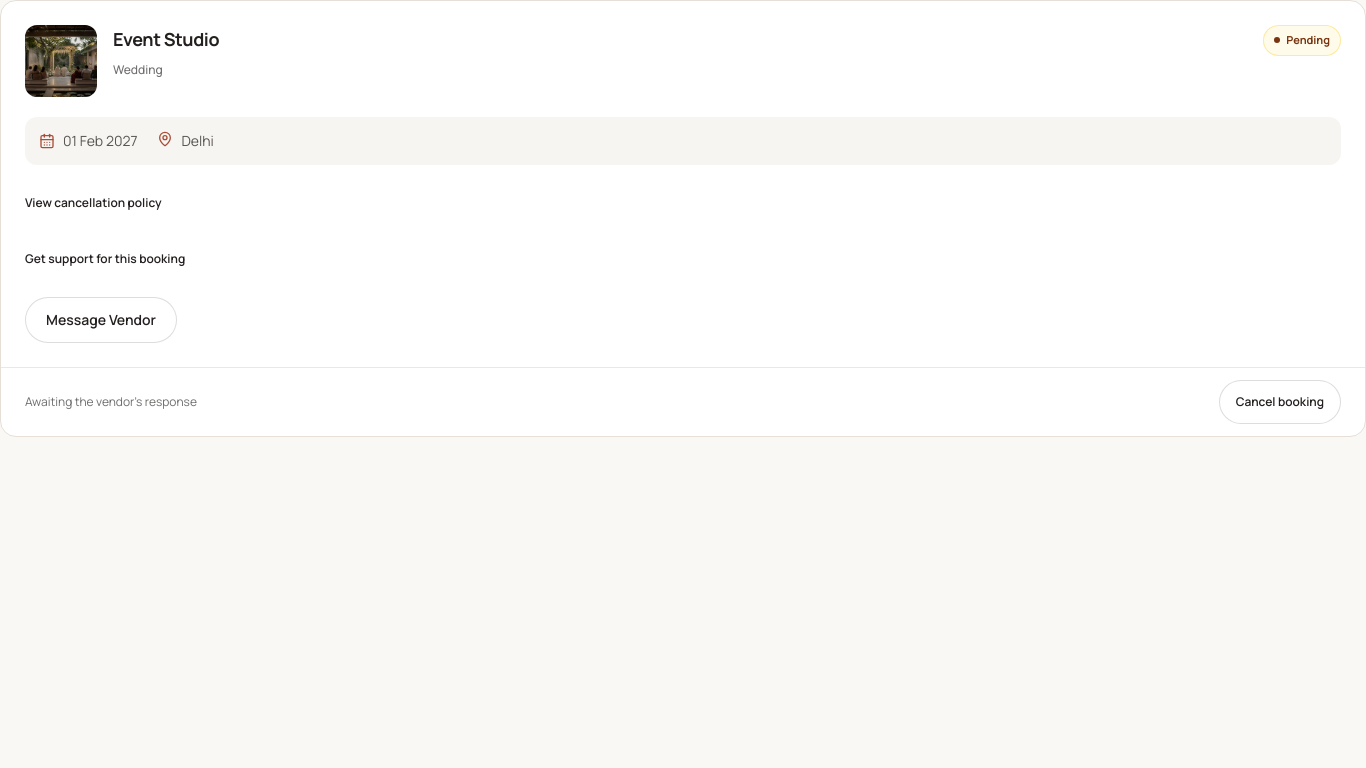
Scenario: booking contact visibility › collects a reason before a customer changes the booking
This screenshot has width=1366, height=768.
Click the button "Cancel booking".
click(1280, 402)  # box [1219,380,1341,424]
(page scrolled)
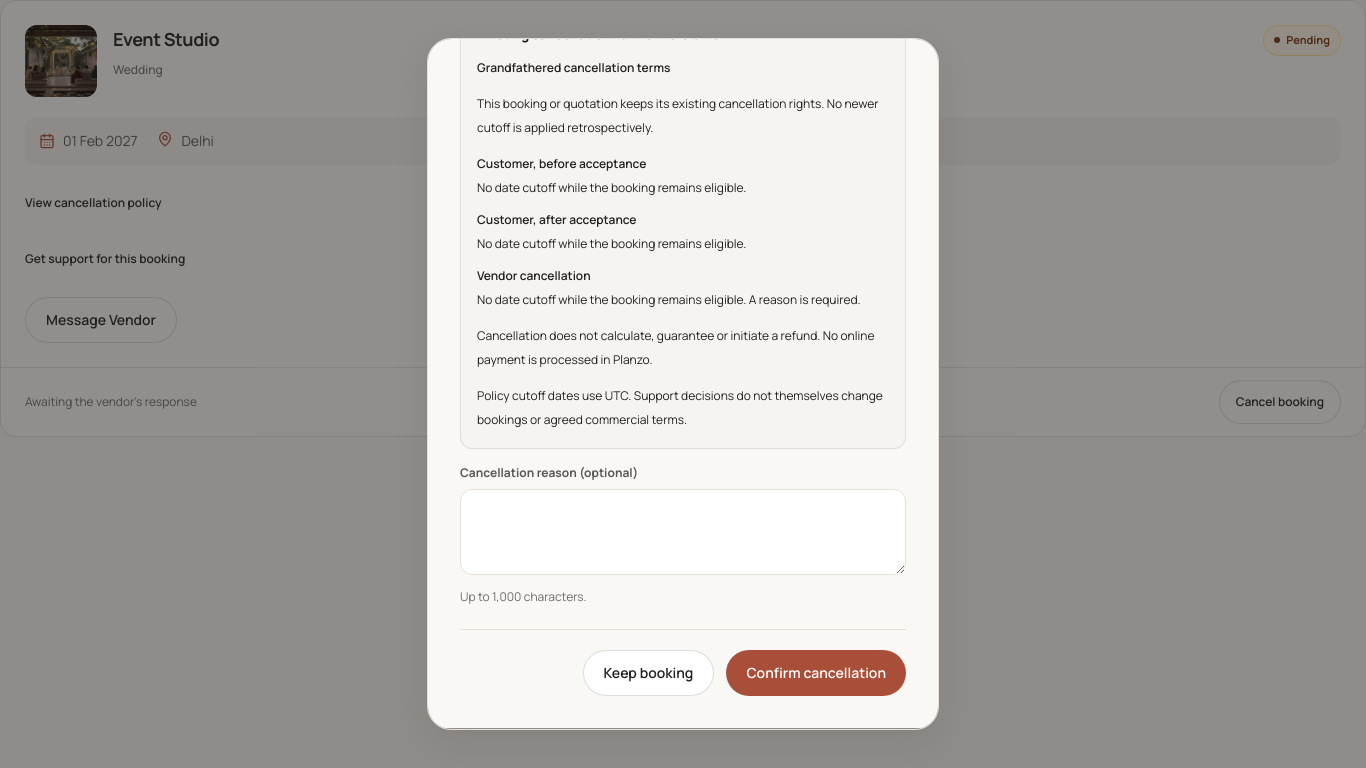
Type "  The event cannot proceed.  " into the text box labelled "Cancellation reason (optional)".
click(683, 532); type("  The event cannot proceed.  ")  # box [460,489,906,575]
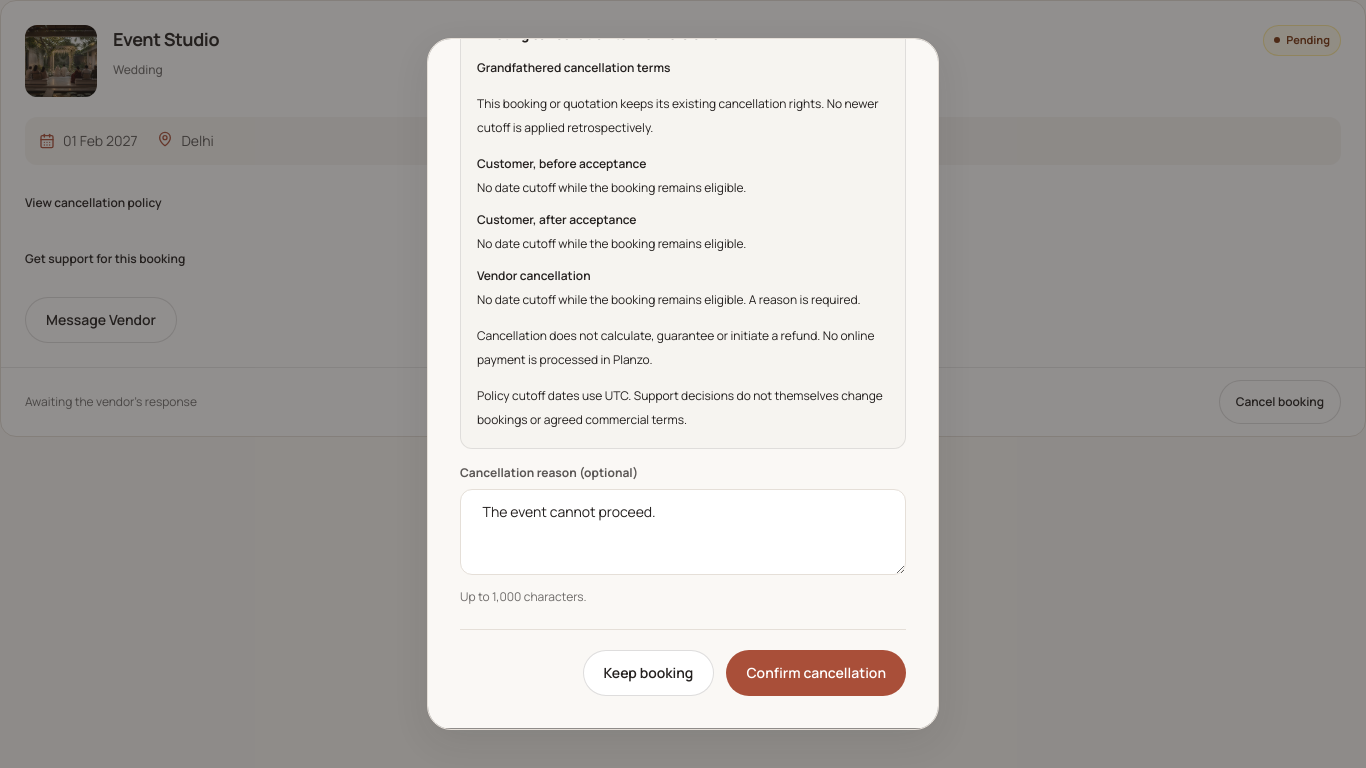
Click the button "Confirm cancellation".
click(816, 673)  # box [726,650,906,696]
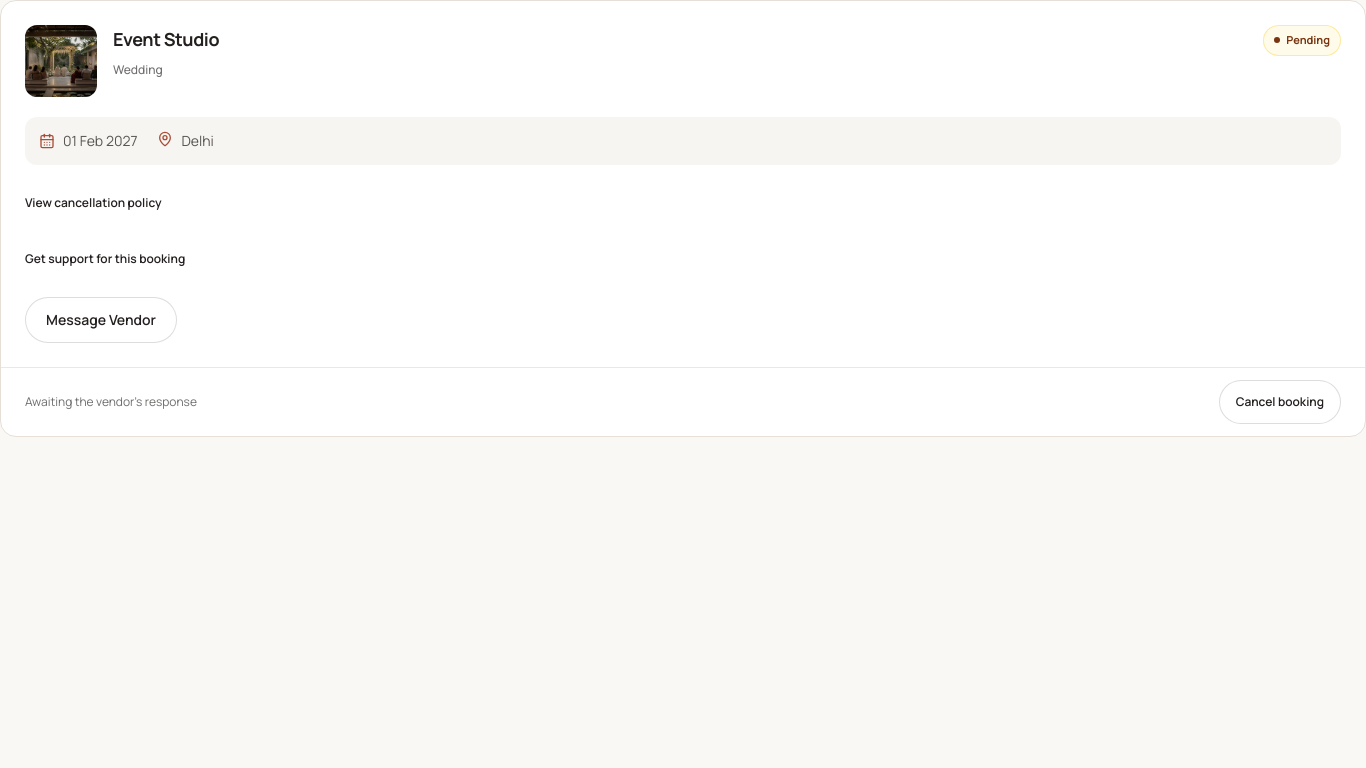
Expected: the dialog is gone
